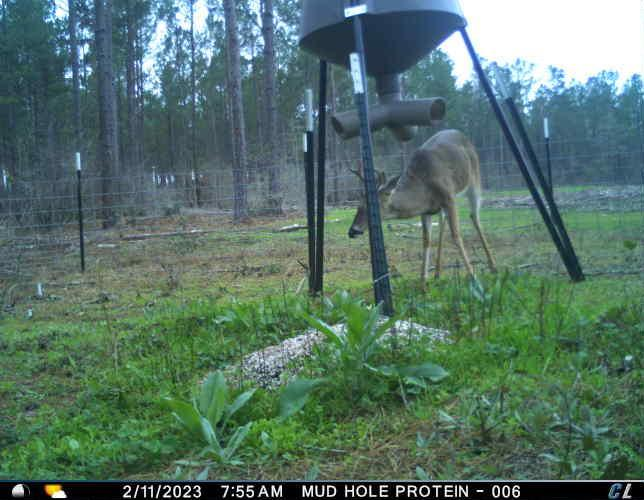Deer: (346, 126, 498, 293)
